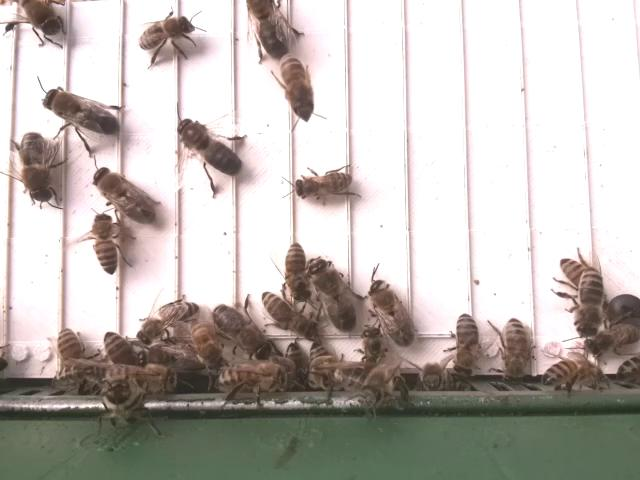Drone: (39, 86, 122, 140), (92, 165, 158, 226), (176, 117, 241, 178), (210, 303, 275, 362), (308, 256, 357, 334), (368, 277, 418, 349), (244, 0, 294, 59), (18, 129, 57, 204)
Worker: (138, 299, 200, 343), (258, 290, 317, 336), (573, 266, 607, 339), (135, 17, 197, 52), (279, 55, 313, 115), (582, 323, 640, 357), (215, 364, 288, 391), (92, 210, 122, 275), (501, 313, 531, 376), (292, 169, 352, 200), (450, 311, 480, 373), (54, 326, 91, 375), (102, 328, 141, 373), (282, 239, 311, 299), (545, 358, 608, 385)
